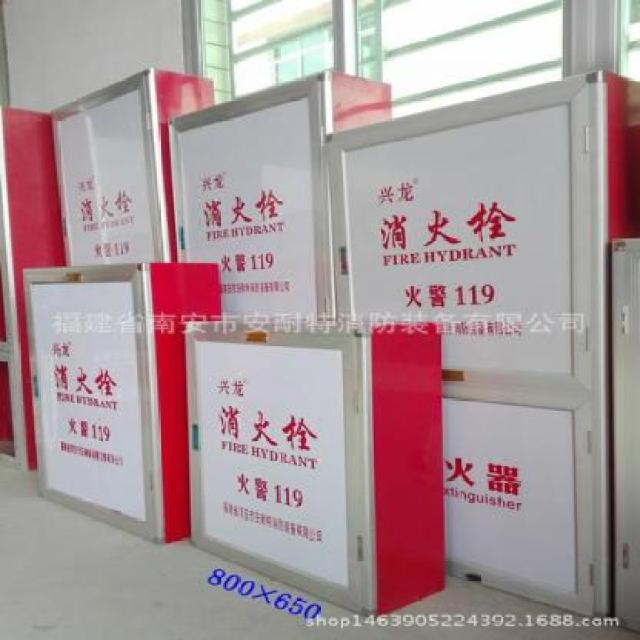firehydrant: (328, 63, 639, 629), (178, 312, 450, 626), (168, 62, 397, 330), (20, 257, 227, 548), (48, 63, 220, 267), (1, 103, 74, 475)
